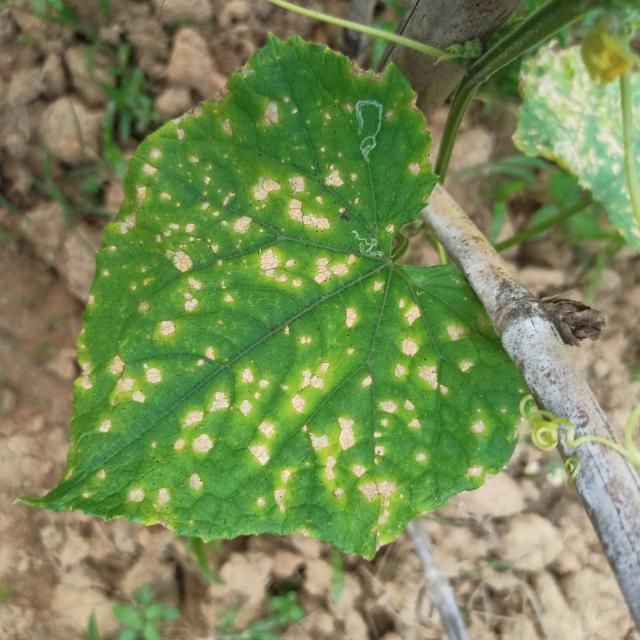disease_cucumber: (90, 72, 487, 553)
